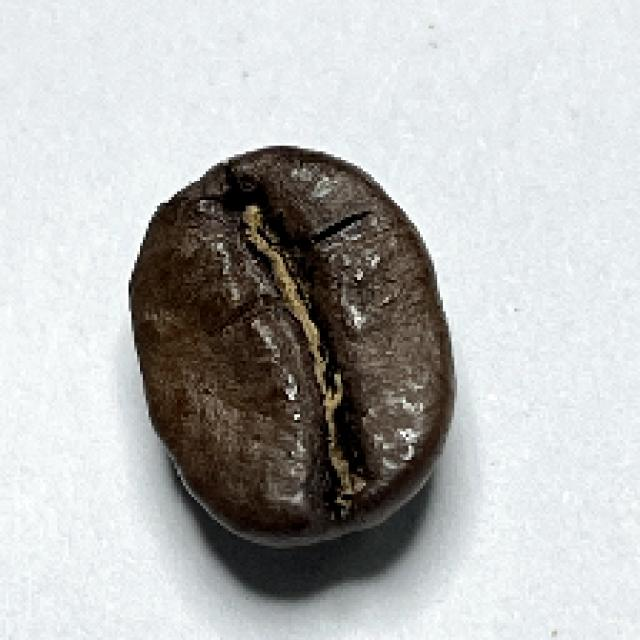bean: (124, 143, 458, 546)
